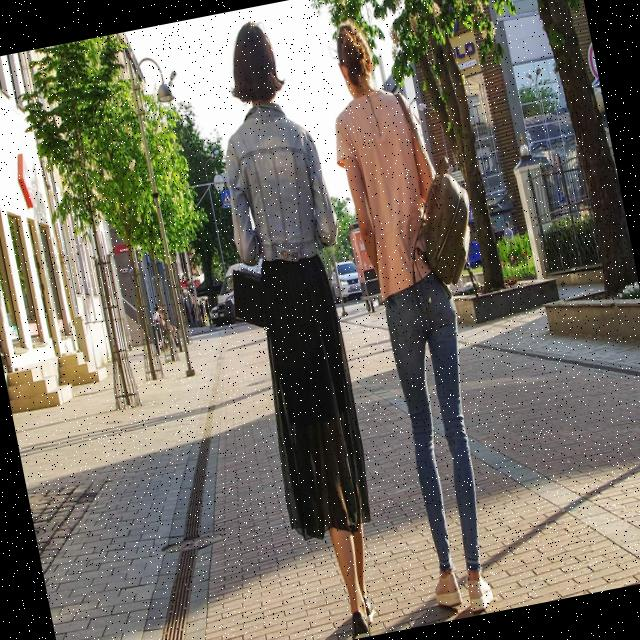Person: (181, 13, 416, 640), (312, 3, 546, 620)
